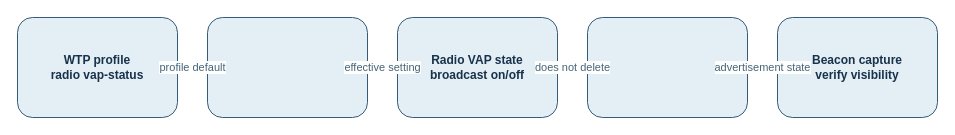
Image size: 955x135. Some labels were removed from this diagram. Each missing label, with the centre of its shape:
"Per-device override if enabled" goes at (x=287, y=67).
"SSID/VAP objects retained" goes at (x=667, y=67).
